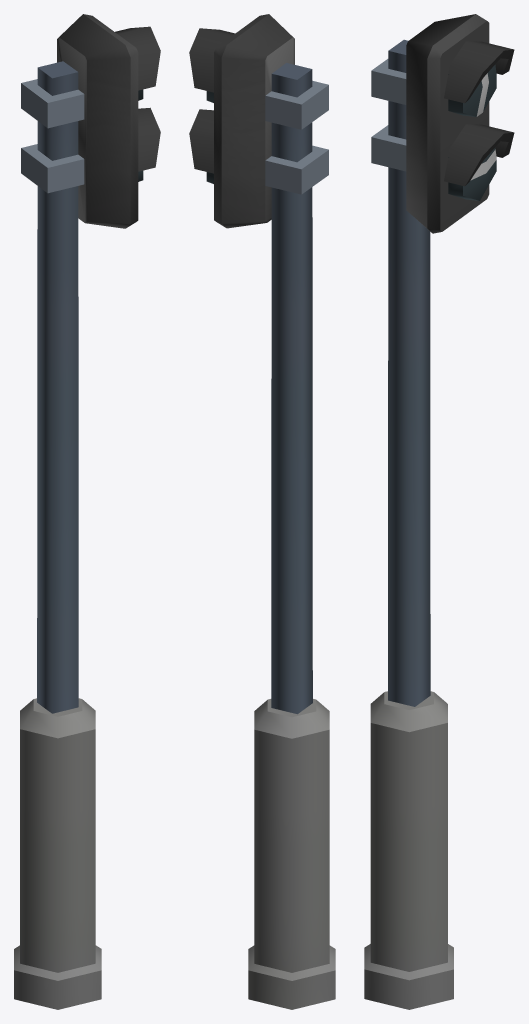
File: Lights_2_A.fbx
The picture shows the model from 3 angles, left to right: view 1: azimuth 30°, elevation 25°; view 2: azimuth 150°, elevation 25°; view 3: azimuth 330°, elevation 25°; orthographic projection. The views are drawn at different scales.
Visible parts, largest first — view 1: Lights_2_A; view 2: Lights_2_A; view 3: Lights_2_A.
Part boxes in pixels (x1,y1,x2,y2): Lights_2_A: [14, 14, 160, 1009]; Lights_2_A: [189, 14, 335, 1009]; Lights_2_A: [364, 14, 514, 1009].
Size of the model in its own units: 49.58 by 330 by 33.33.
